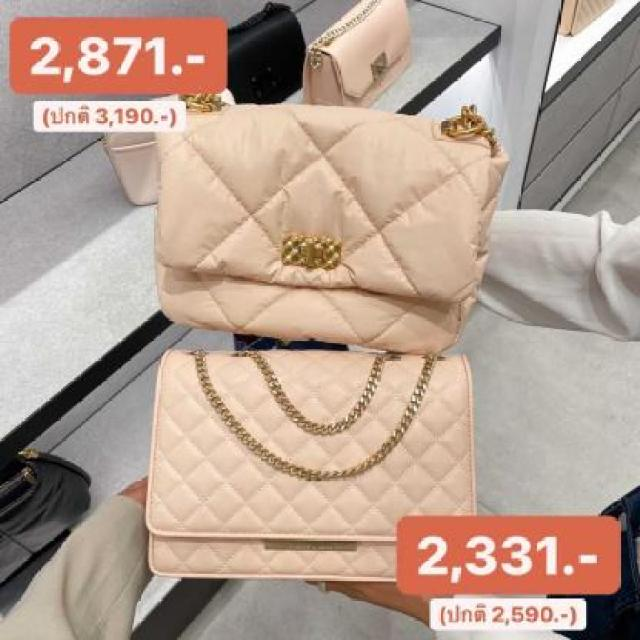Bag: (123, 73, 519, 349), (121, 326, 505, 600), (297, 0, 461, 111), (216, 0, 316, 106)
